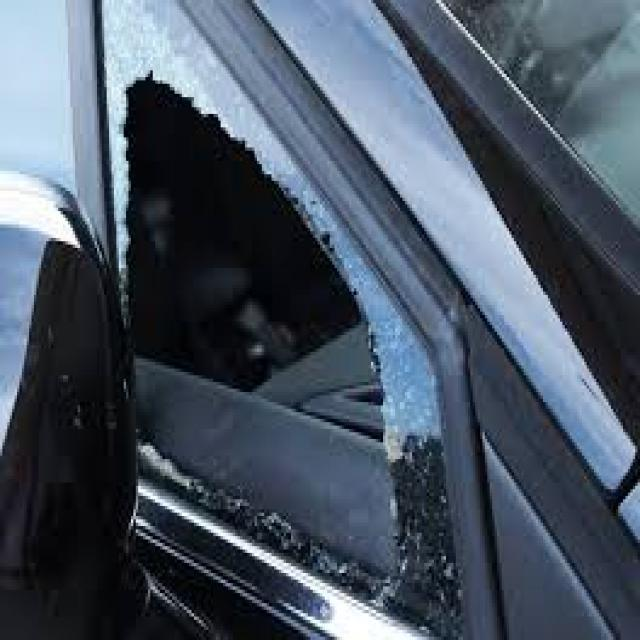damaged-window: (85, 0, 490, 637)
